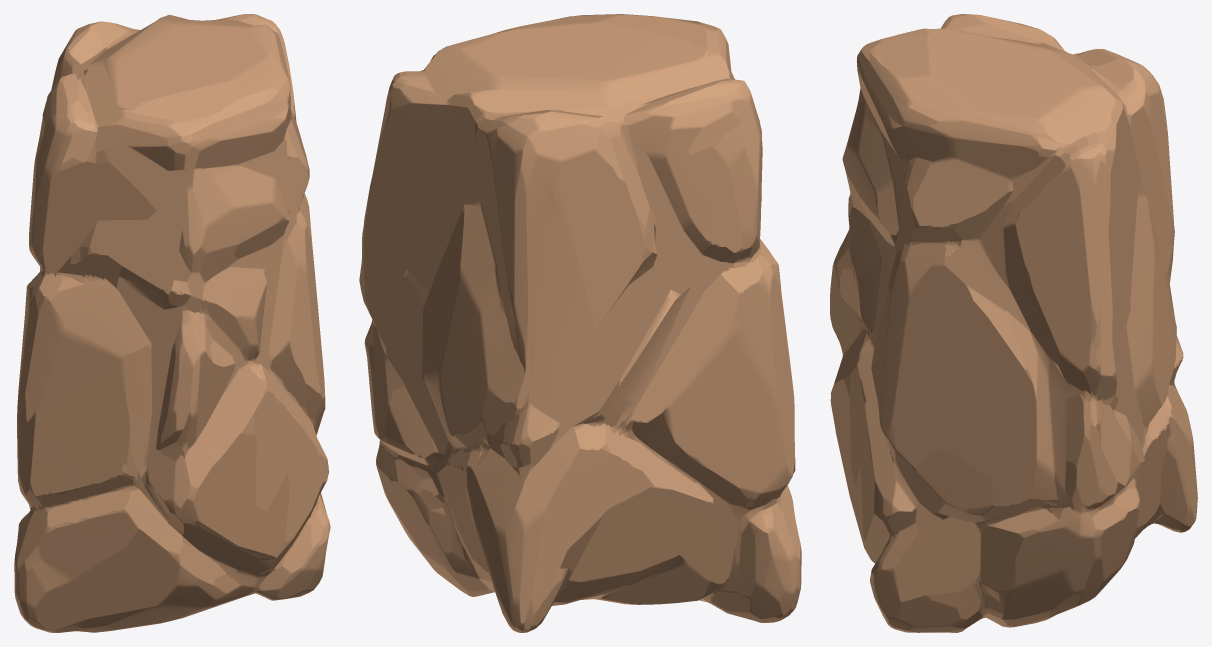
3 views of the same model, side by side, from view 1: azimuth 30°, elevation 25°; view 2: azimuth 150°, elevation 25°; view 3: azimuth 270°, elevation 25° (orthographic). The views are drawn at different scales.
Visible parts, largest first — view 1: Mesh_6_LOD0; view 2: Mesh_6_LOD0; view 3: Mesh_6_LOD0.
Boxes of the visible parts, box(x1,y1,x2,y2) form: Mesh_6_LOD0: box(14, 14, 330, 632); Mesh_6_LOD0: box(359, 14, 801, 632); Mesh_6_LOD0: box(830, 14, 1197, 632).
Size of what is drawn, in the model's own units: 1819 by 2638 by 1657.
